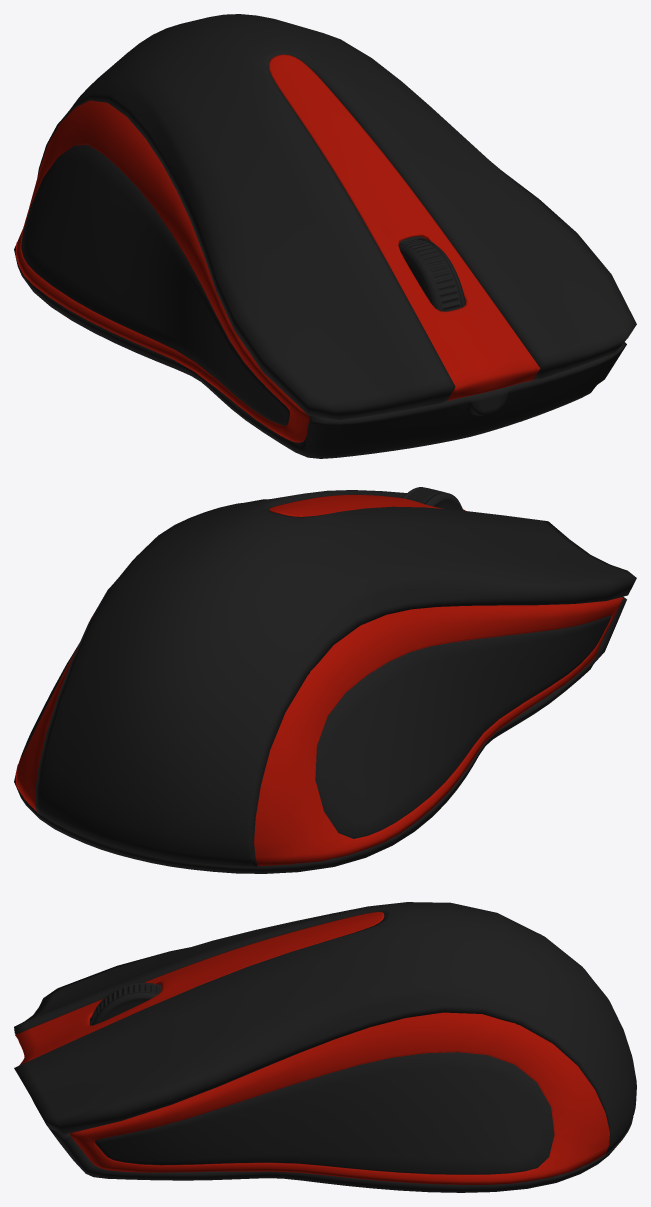
3 renders of one model, top to bottom at view 1: azimuth 30°, elevation 25°; view 2: azimuth 150°, elevation 25°; view 3: azimuth 270°, elevation 25°, orthographic. The views are drawn at different scales.
Visible parts, largest first — view 1: top, middle, cap, bottom, wheel; view 2: top, middle, bottom, cap, wheel; view 3: top, middle, cap, bottom, wheel.
Boxes of the visible parts, <box> form: top: <box>37,14,636,419</box>; middle: <box>15,100,465,442</box>; cap: <box>269,54,540,401</box>; bottom: <box>14,245,626,458</box>; wheel: <box>398,238,465,311</box>; top: <box>35,490,636,866</box>; middle: <box>15,597,622,865</box>; bottom: <box>14,597,626,873</box>; cap: <box>269,494,465,516</box>; wheel: <box>402,487,463,510</box>; top: <box>14,902,636,1154</box>; middle: <box>70,1012,609,1184</box>; cap: <box>15,912,384,1065</box>; bottom: <box>32,1099,633,1192</box>; wheel: <box>90,982,161,1025</box>.
Bounding box in the file's own units: 6.95 × 4.41 × 12.05.
